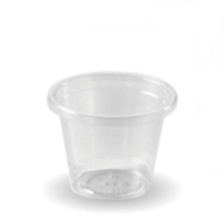glass: (28, 68, 184, 207)
